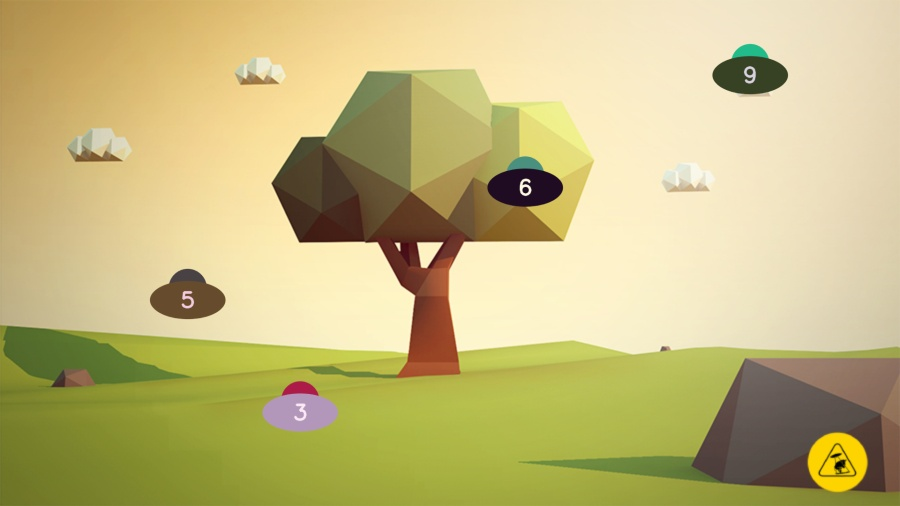ufo: (149, 268, 227, 320), (711, 43, 789, 95), (487, 156, 564, 208), (263, 380, 338, 431)
